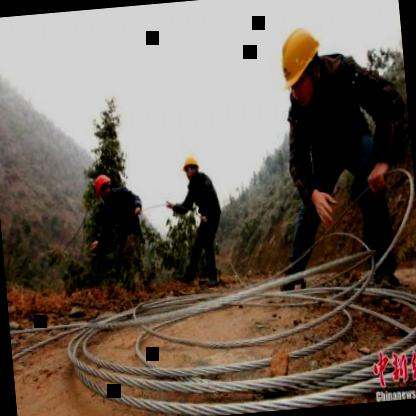helmet: (272, 21, 330, 112), (91, 173, 116, 205), (180, 152, 202, 184)
